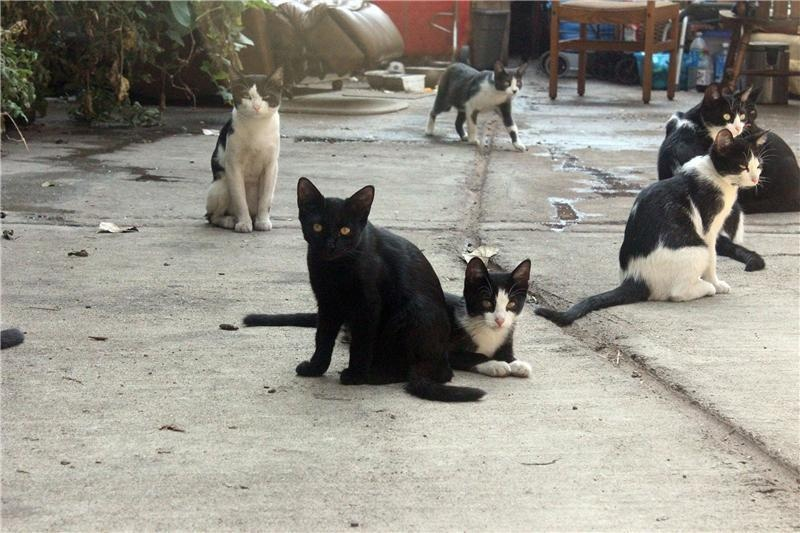cat: (533, 129, 770, 326), (295, 177, 487, 404), (243, 256, 533, 377), (200, 66, 285, 234), (424, 60, 530, 152), (657, 84, 753, 183), (735, 97, 800, 214)
